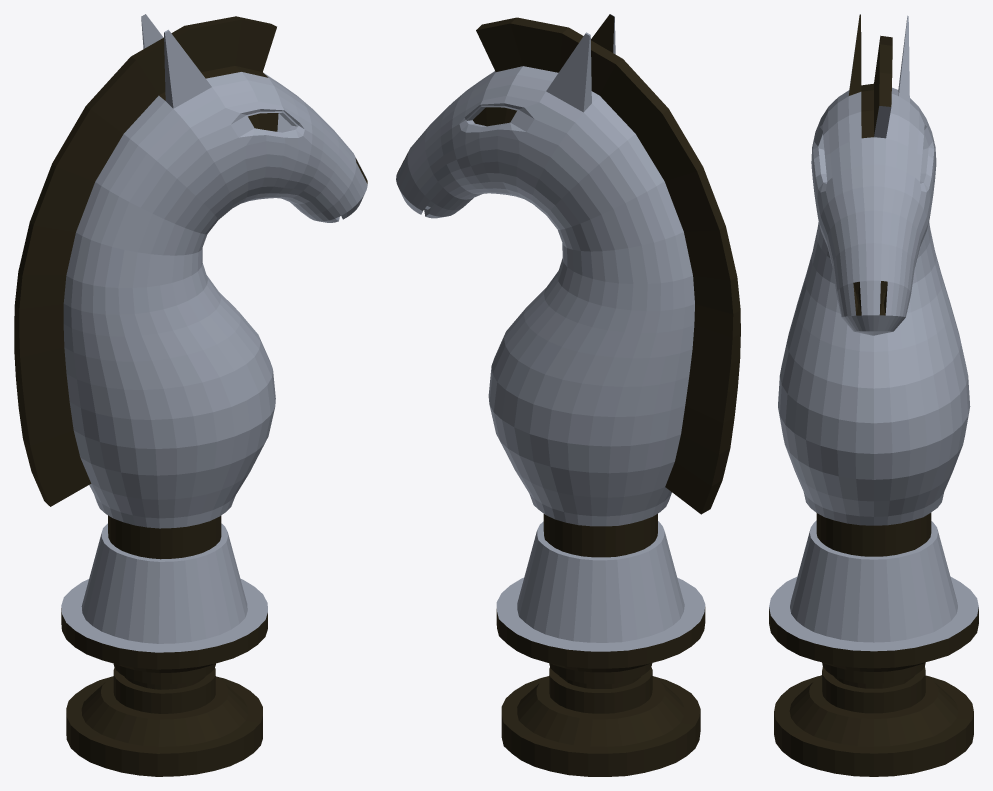
Rendered from metal_n_w.glb.
3 views of the same model, side by side, from view 1: azimuth 30°, elevation 25°; view 2: azimuth 150°, elevation 25°; view 3: azimuth 270°, elevation 25° (orthographic).
Visible parts, largest first — view 1: n1, n0; view 2: n1, n0; view 3: n1, n0.
Boxes of the visible parts, left/top/right/bottom form: n1: left=61, top=14, right=367, bottom=652; n0: left=14, top=16, right=367, bottom=776; n1: left=396, top=14, right=705, bottom=651; n0: left=397, top=14, right=740, bottom=776; n1: left=769, top=14, right=978, bottom=651; n0: left=769, top=15, right=978, bottom=776.
Size of the model in its own units: 0.4522 by 0.9 by 0.2381.
